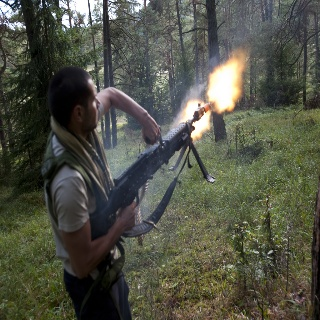rifle: (88, 102, 212, 240)
